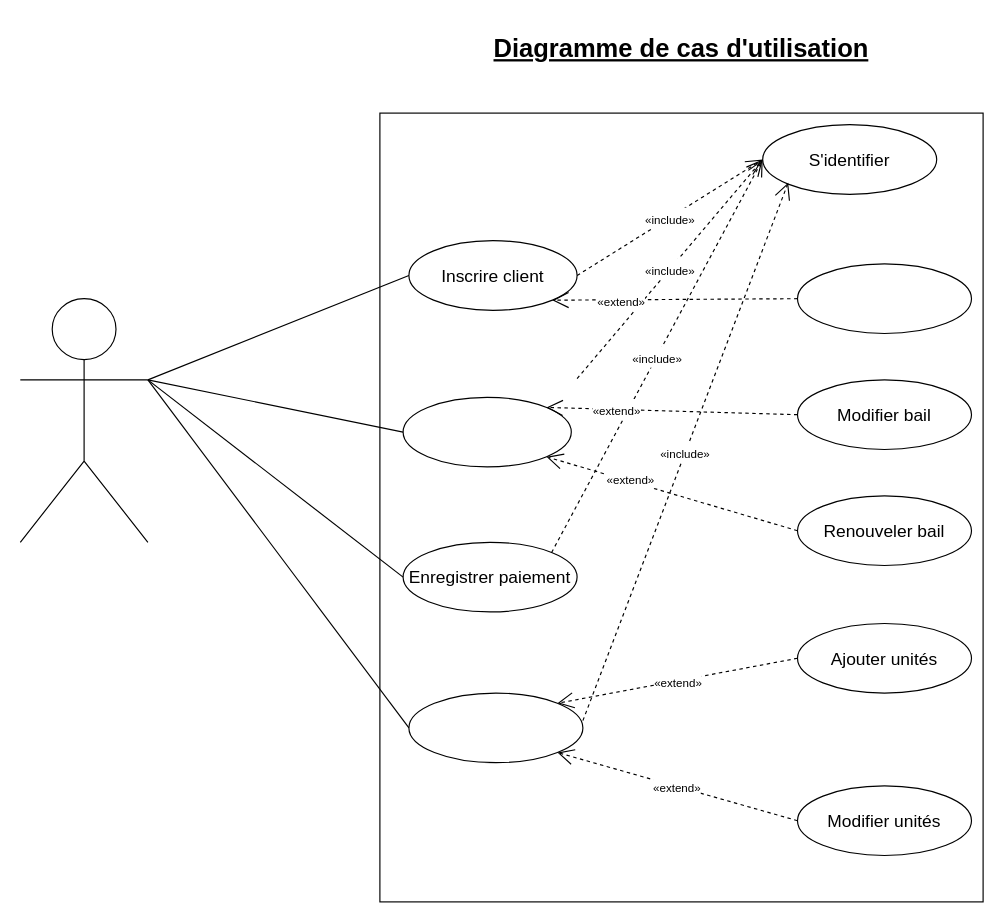
Some shapes in this 1003 by 922 pixel diagram are drawn without their labels. Here are the shapes that lost their labels. From the top down, the box of each, then its label:
(796, 263, 971, 334): Modifier client
(19, 298, 148, 542): Employé
(402, 396, 571, 467): Créer bail
(408, 692, 583, 763): Consulter liste unités
